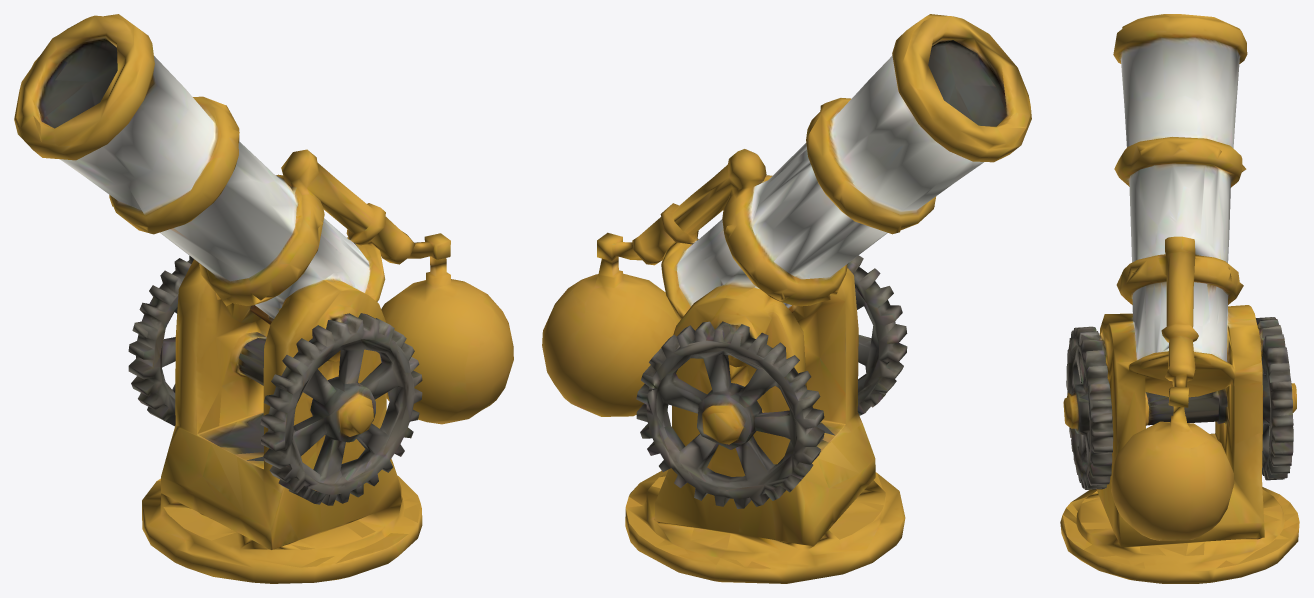
Rendered from prop_star_telescope.glb.
3 renders of one model, left to right at view 1: azimuth 30°, elevation 25°; view 2: azimuth 150°, elevation 25°; view 3: azimuth 270°, elevation 25°, orthographic. The views are drawn at different scales.
Visible parts, largest first — view 1: tripo_node_bdcd317d-fa6f-4766-896d-9a51961bbd75; view 2: tripo_node_bdcd317d-fa6f-4766-896d-9a51961bbd75; view 3: tripo_node_bdcd317d-fa6f-4766-896d-9a51961bbd75.
Boxes of the visible parts, left/top/right/bottom form: tripo_node_bdcd317d-fa6f-4766-896d-9a51961bbd75: left=14, top=14, right=513, bottom=583; tripo_node_bdcd317d-fa6f-4766-896d-9a51961bbd75: left=542, top=14, right=1031, bottom=583; tripo_node_bdcd317d-fa6f-4766-896d-9a51961bbd75: left=1060, top=14, right=1299, bottom=583.
Size of the model in its own units: 0.8822 by 0.9799 by 0.4622.
1 material, 1 textured.
